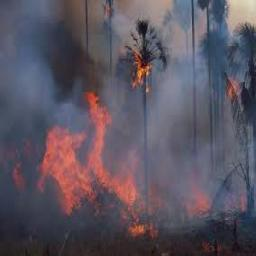Heavy smoke: (2, 2, 86, 125)
Low smoke: (118, 95, 221, 174), (153, 5, 215, 94)
Medium fire: (4, 92, 154, 238)
Small fire: (183, 171, 254, 221), (127, 37, 152, 92), (221, 65, 242, 103), (98, 0, 115, 27)
